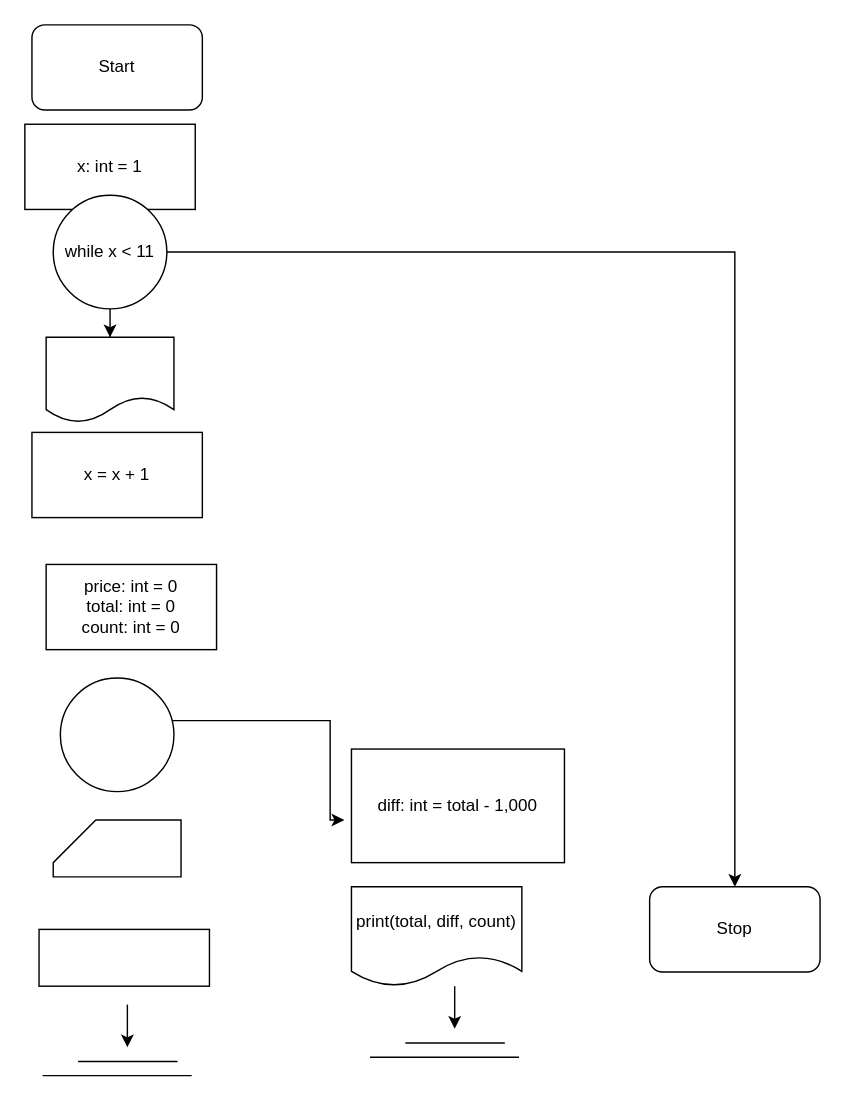
This 845x1102 diagram has some shape labels left out. The shapes that lost their labels are listed below. From the top down, each one's centre as x and y in pixels, then its label:
At (x=109, y=379): "print(x)".
At (x=116, y=734): "while total <= 1000".
At (x=116, y=848): "input price".
At (x=123, y=957): "total = total + price count = count + 1".
